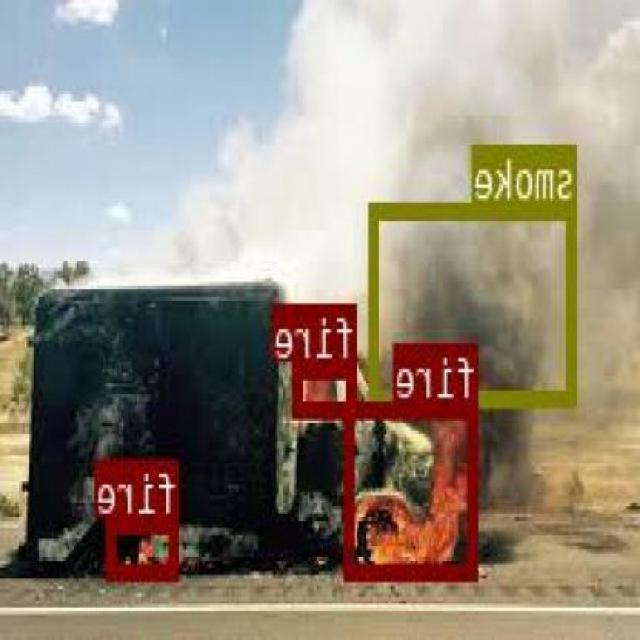Fire: (348, 400, 478, 578), (109, 514, 180, 576), (294, 358, 360, 413)
Smoke: (372, 202, 580, 402)
